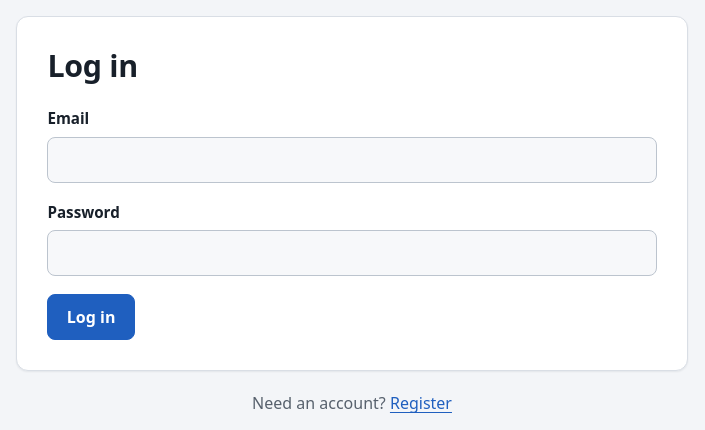
it: session handling › keeps the newer session when a delayed 401 answers the previous token
This screenshot has width=705, height=430.
Type "demo.user@example.test" into the field labelled "Email". click: (352, 160)
box: [47, 137, 657, 183]
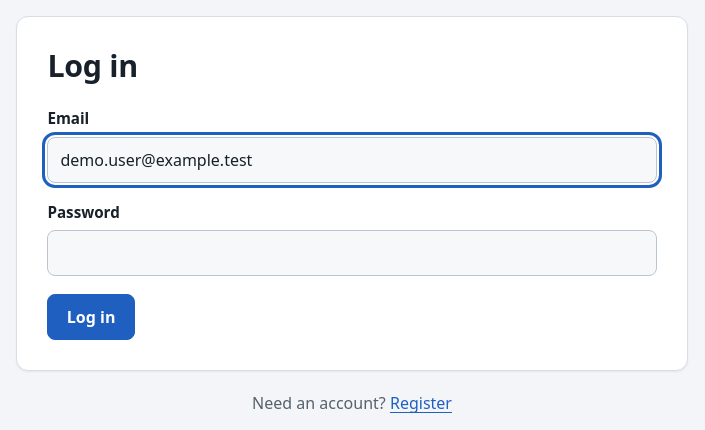
Type "DemoPassw0rd!" into the password field labelled "Password". click: (352, 254)
box: [47, 230, 657, 276]
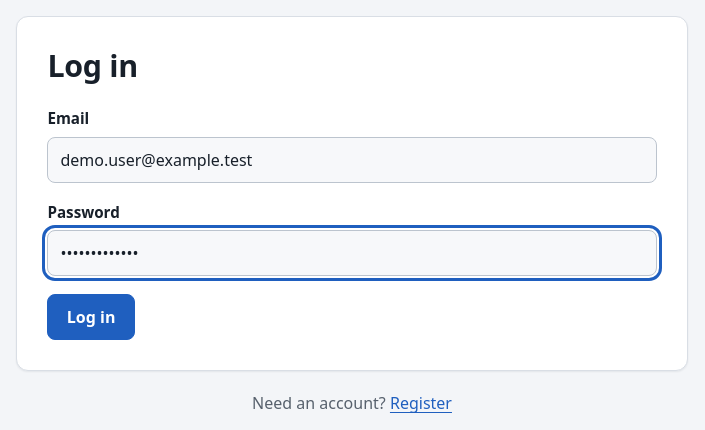
Click the button "Log in". click: (91, 317)
box: [47, 294, 135, 340]
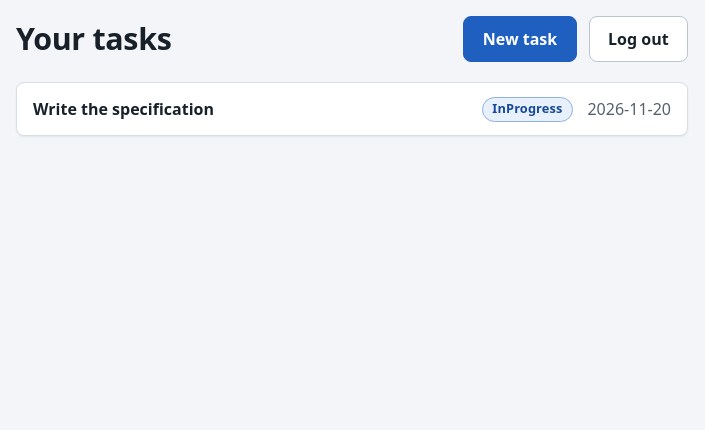
Result: the heading "Your tasks" is shown at [16, 18, 172, 59]
